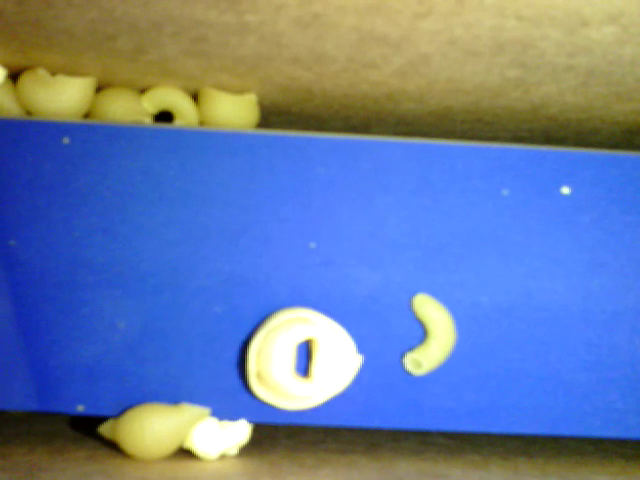elbow: (399, 289, 458, 379), (144, 80, 203, 126)
shell: (99, 399, 212, 459), (13, 68, 97, 120), (196, 82, 264, 129), (89, 84, 155, 123)
tortellini: (241, 305, 365, 411)
